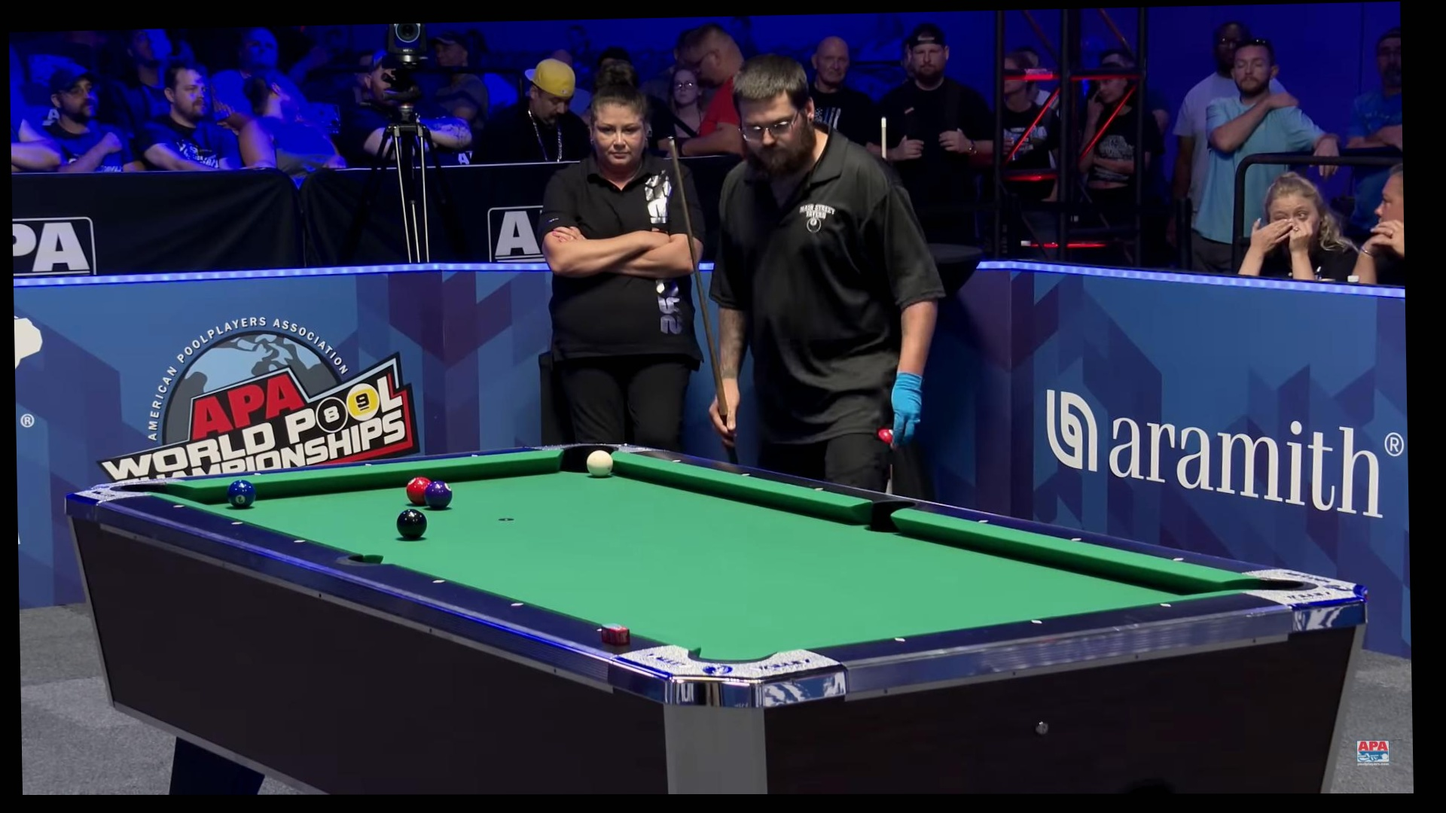Black: (593, 624, 610, 635), (291, 536, 308, 547), (228, 518, 245, 529), (467, 450, 484, 461), (1067, 534, 1084, 545), (1158, 599, 1175, 610), (509, 599, 525, 610), (738, 469, 754, 480), (430, 576, 447, 586), (169, 501, 186, 511), (360, 460, 377, 470), (811, 484, 828, 494), (974, 516, 991, 526), (249, 469, 265, 479), (670, 456, 686, 466), (1170, 555, 1186, 565), (1030, 616, 1046, 626), (892, 634, 908, 644)
Cue: (226, 479, 257, 510), (423, 479, 453, 510), (405, 476, 433, 507)
Solid: (396, 508, 428, 541)
Stripe: (586, 450, 615, 478)
